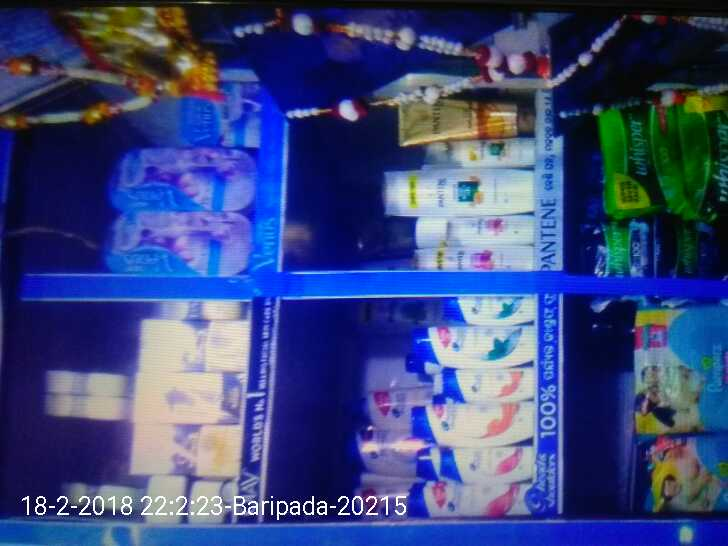venus: (114, 211, 251, 268), (117, 153, 250, 209), (182, 85, 258, 150)
